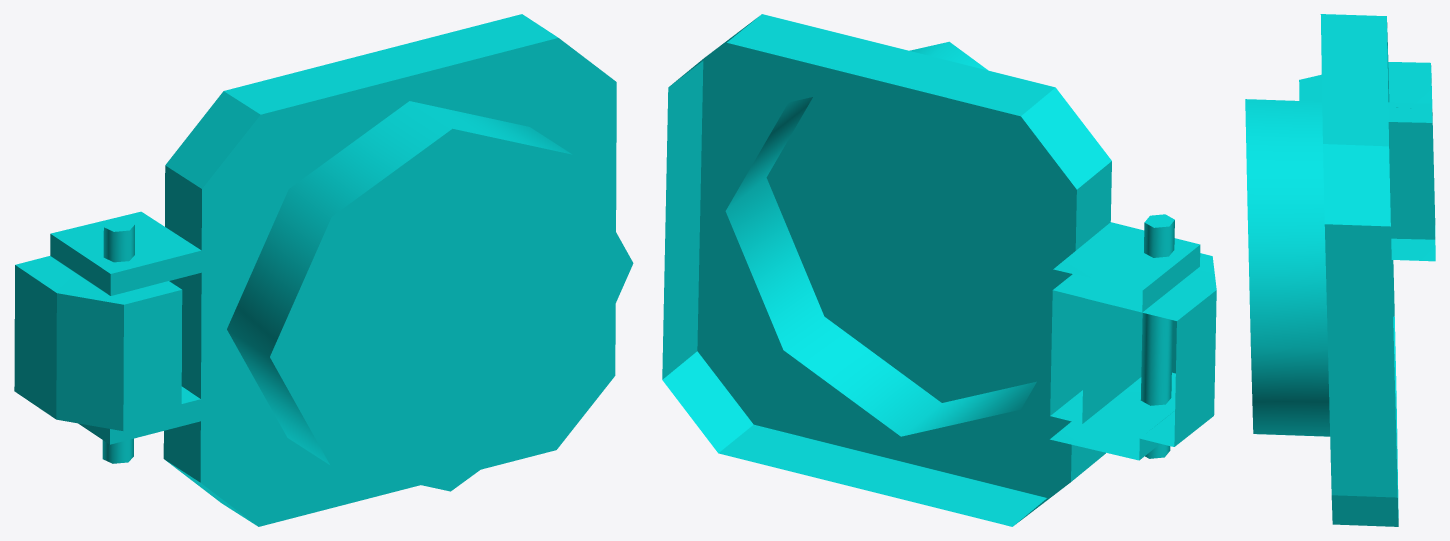
Rendered from build_prop_Luke_01.fbx.
3 views of the same model, side by side, from view 1: azimuth 30°, elevation 25°; view 2: azimuth 150°, elevation 25°; view 3: azimuth 270°, elevation 25° (orthographic). The views are drawn at different scales.
Visible parts, largest first — view 1: build_prop_Luke_01; view 2: build_prop_Luke_01; view 3: build_prop_Luke_01.
Boxes of the visible parts, x1,y1,x2,y2 form: build_prop_Luke_01: (14,14,633,526); build_prop_Luke_01: (662,14,1216,526); build_prop_Luke_01: (1245,14,1435,526).
Size of the model in its own units: 73.92 by 54.75 by 24.59.
